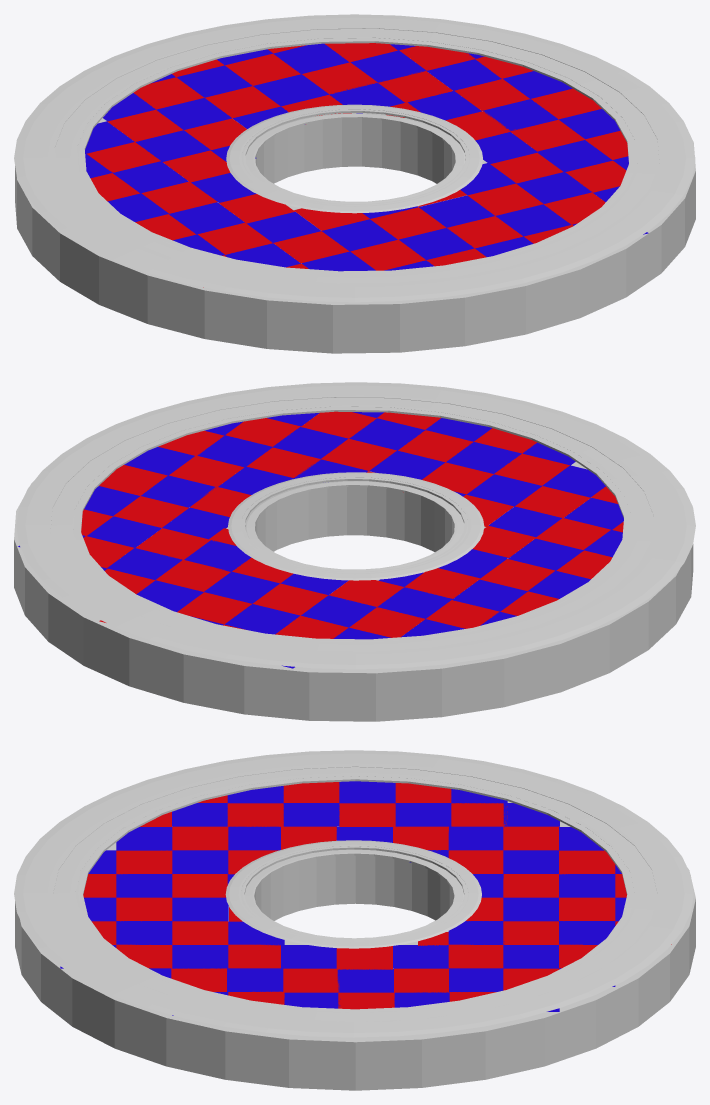
Rendered from stage.fbx.
The picture shows the model from 3 angles, top to bottom: view 1: azimuth 30°, elevation 25°; view 2: azimuth 150°, elevation 25°; view 3: azimuth 270°, elevation 25°; orthographic projection.
Visible parts, largest first — view 1: トーラス, 円柱.001, トーラス.001, 円柱, トーラス.002, 円柱.003, トーラス.005, 円柱.002, トーラス.003, トーラス.004, 平面.036, 平面.032 (+62 smaller); view 2: トーラス, 円柱.002, トーラス.001, 円柱.003, トーラス.002, 円柱, トーラス.005, 円柱.001, トーラス.003, トーラス.004, 平面.030, 平面.047 (+63 smaller); view 3: トーラス, 円柱, 円柱.003, トーラス.001, トーラス.002, トーラス.005, 円柱.001, 円柱.002, トーラス.003, トーラス.004, 平面.039, 平面.037 (+63 smaller).
Boxes of the visible parts, x1,y1,x2,y2 form: トーラス: (14, 14, 695, 302); 円柱.001: (59, 202, 529, 353); トーラス.001: (55, 28, 659, 283); 円柱: (422, 140, 695, 334); トーラス.002: (77, 38, 636, 274); 円柱.003: (300, 111, 482, 183); トーラス.005: (226, 104, 482, 213); 円柱.002: (15, 118, 304, 280); トーラス.003: (245, 113, 465, 203); トーラス.004: (241, 109, 469, 205); 平面.036: (370, 207, 446, 239); 平面.032: (447, 216, 522, 248); トーラス: (16, 382, 695, 669); 円柱.002: (183, 572, 650, 721); トーラス.001: (50, 397, 653, 651); 円柱.003: (14, 481, 265, 702); トーラス.002: (73, 406, 631, 642); 円柱: (263, 471, 404, 551); トーラス.005: (228, 472, 484, 580); 円柱.001: (402, 462, 693, 647); トーラス.003: (245, 481, 464, 571); トーラス.004: (241, 477, 468, 573); 平面.030: (349, 418, 425, 450); 平面.047: (321, 439, 396, 470); トーラス: (14, 750, 693, 1037); 円柱: (15, 904, 359, 1090); 円柱.003: (355, 898, 695, 1090); トーラス.001: (53, 767, 657, 1022); トーラス.002: (75, 776, 635, 1012); トーラス.005: (225, 840, 481, 948); 円柱.001: (15, 826, 355, 947); 円柱.002: (351, 801, 695, 920); トーラス.003: (244, 849, 463, 940); トーラス.004: (240, 846, 468, 942); 平面.039: (172, 826, 228, 850); 平面.037: (172, 897, 228, 921).
Bounding box in the file's own units: 2428 × 209 × 2427.
